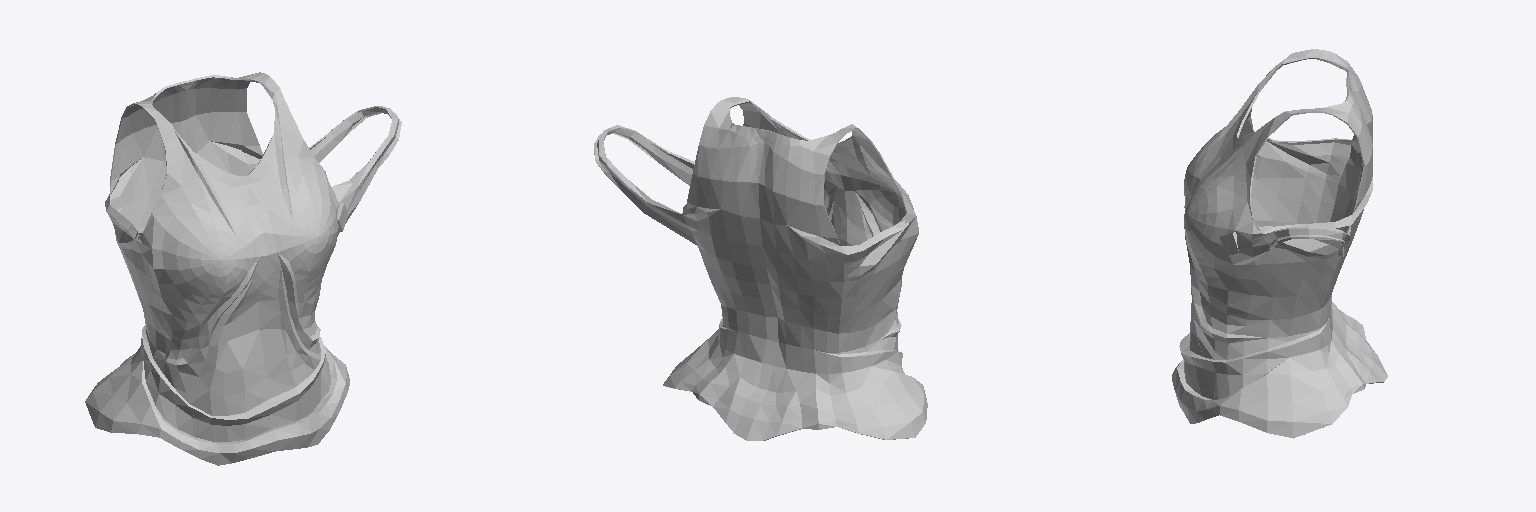
File: clo3.obj
The picture shows the model from 3 angles: view 1: azimuth 30°, elevation 25°; view 2: azimuth 150°, elevation 25°; view 3: azimuth 270°, elevation 25°; orthographic projection.
Parts seen in each view (by area): view 1: T_Shirt_mtr_G11_V100.049; view 2: T_Shirt_mtr_G11_V100.049; view 3: T_Shirt_mtr_G11_V100.049.
Part boxes in pixels (x1,y1,x2,y2): T_Shirt_mtr_G11_V100.049: (85,72,401,465); T_Shirt_mtr_G11_V100.049: (594,97,927,440); T_Shirt_mtr_G11_V100.049: (1172,49,1387,438).
Bounding box in the file's own units: 0.3217 × 0.3189 × 0.1964.